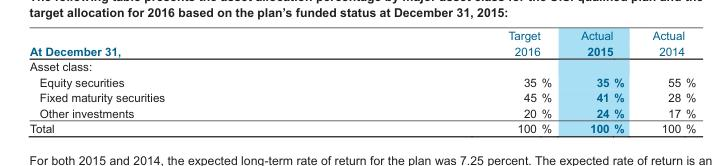table: (29, 28, 695, 134)
table column: (29, 28, 335, 134), (335, 28, 565, 134), (565, 28, 637, 134), (637, 28, 695, 134)
table column header: (29, 28, 695, 58)
table projected row header: (29, 58, 695, 74)
table row: (29, 28, 695, 58), (29, 58, 695, 74), (29, 89, 695, 105), (29, 74, 695, 89), (29, 105, 695, 120), (29, 120, 695, 134)
